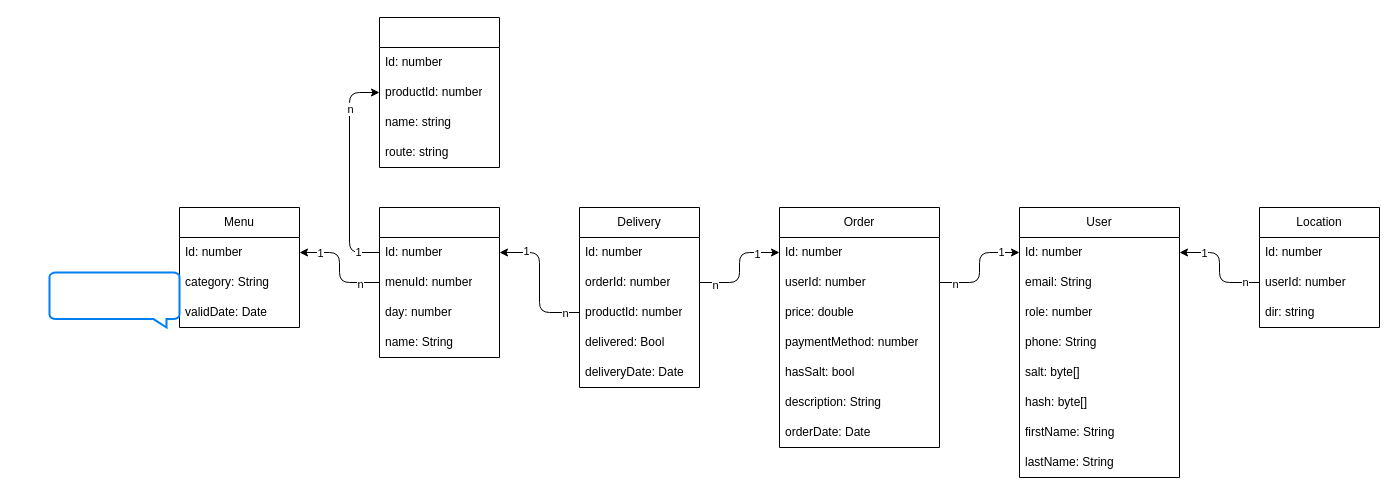
Image size: 1397x495. Some labels were removed from this diagram. Here are the shapes that lost their labels. From the top down, the box of each, then its label:
(378, 16, 500, 168): Image
(48, 271, 180, 328): valid date va a ser la fecha del lunes
(378, 206, 500, 358): Product
